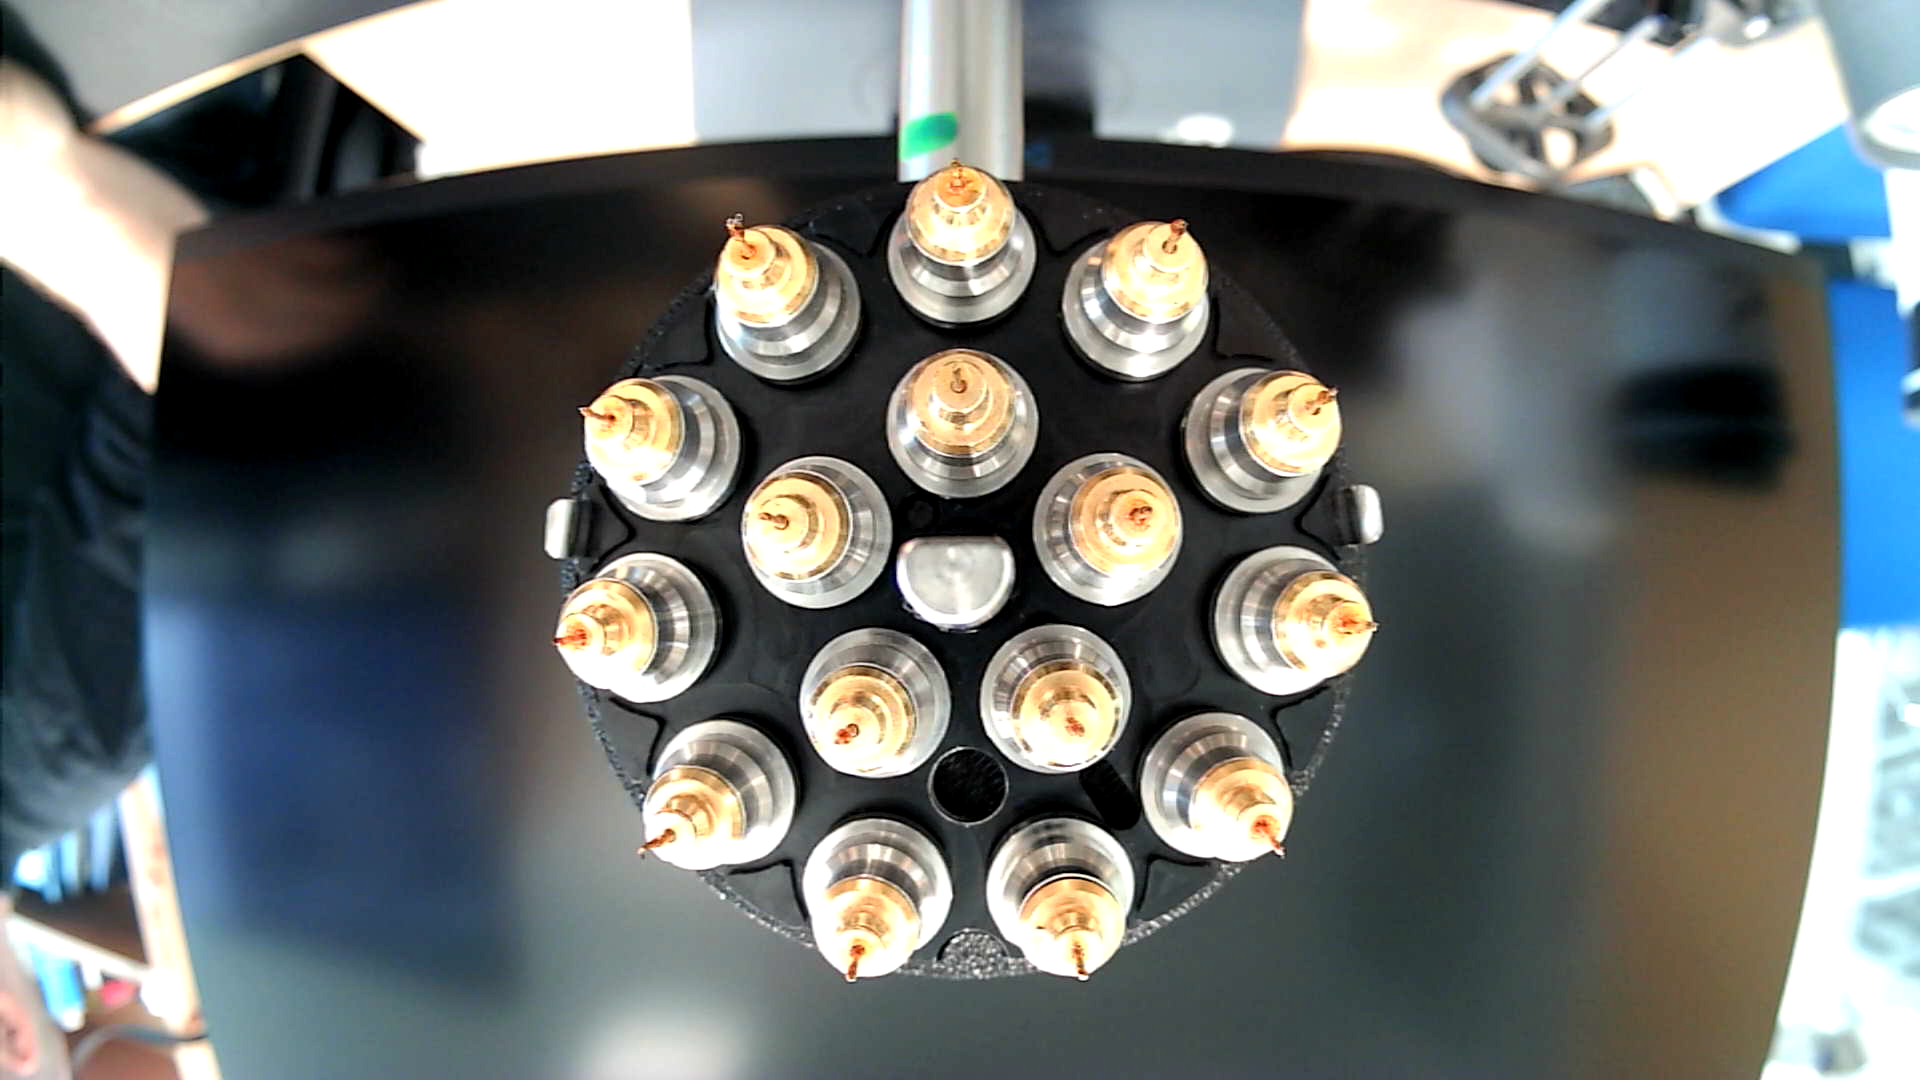hole: (927, 745, 1011, 827)
pin: (709, 212, 865, 392), (800, 816, 955, 996), (1212, 541, 1382, 702), (549, 553, 723, 705), (886, 158, 1040, 330), (578, 373, 742, 527), (1062, 214, 1215, 380), (985, 815, 1135, 984), (738, 452, 895, 612), (976, 620, 1135, 777), (1182, 364, 1345, 516), (1135, 711, 1298, 862), (796, 626, 953, 782), (638, 717, 796, 872), (885, 349, 1042, 500), (1033, 452, 1184, 607)
rod: (895, 535, 1018, 634)
